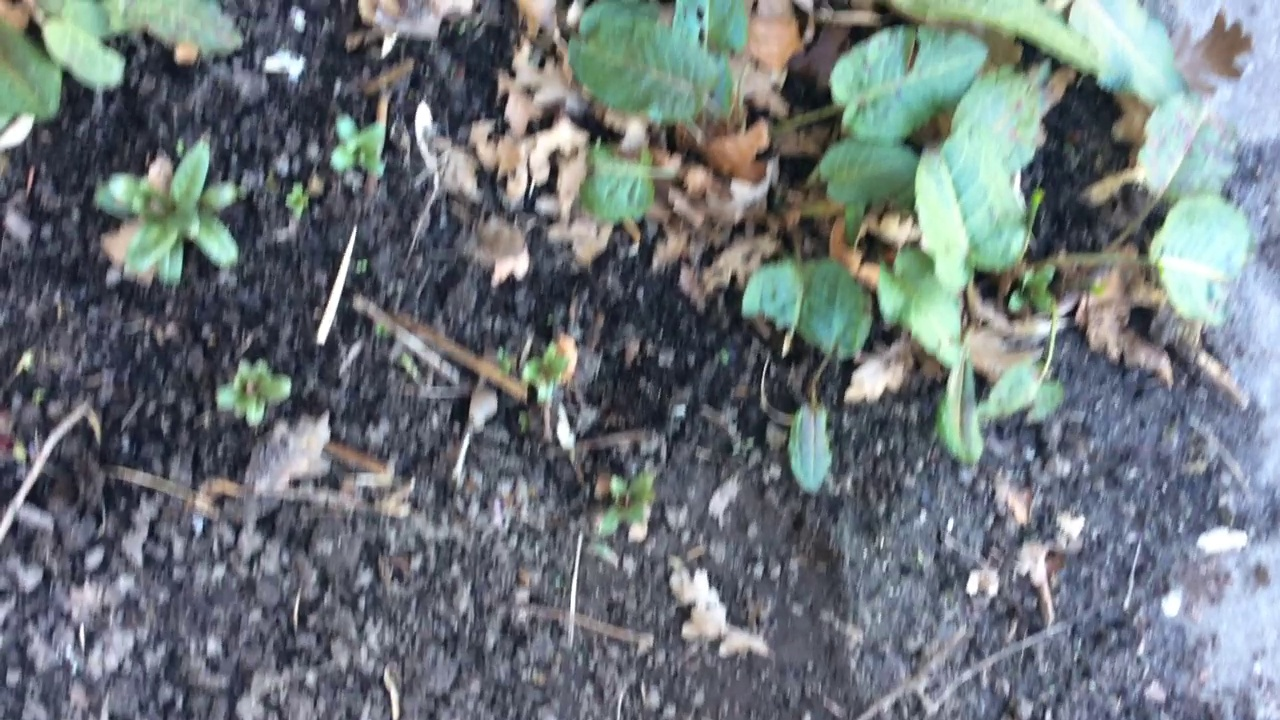rumex: (556, 17, 1266, 454), (1, 2, 253, 140)
